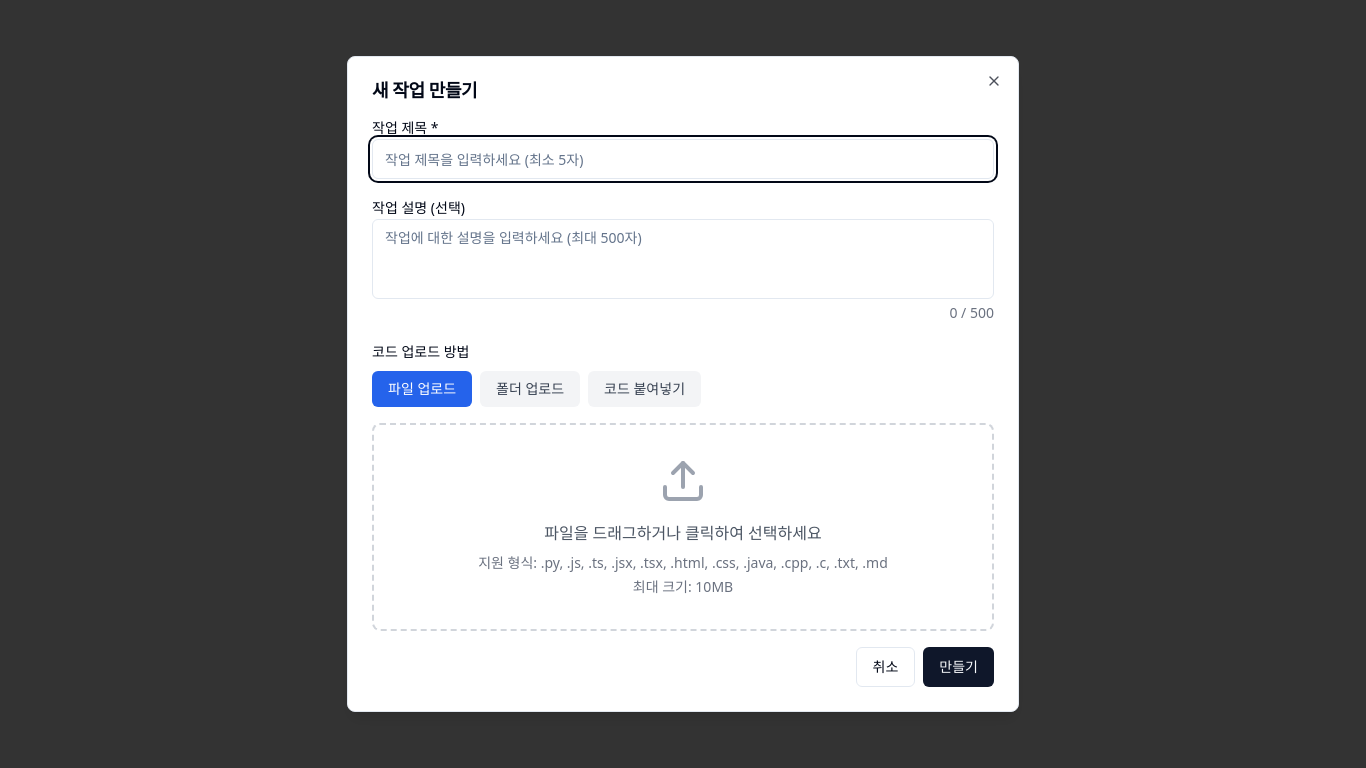
CreateTaskModal › should validate title minimum length
Type "abc" into the field labelled "작업 제목 *" at (683, 159), box [372,139,994,179]
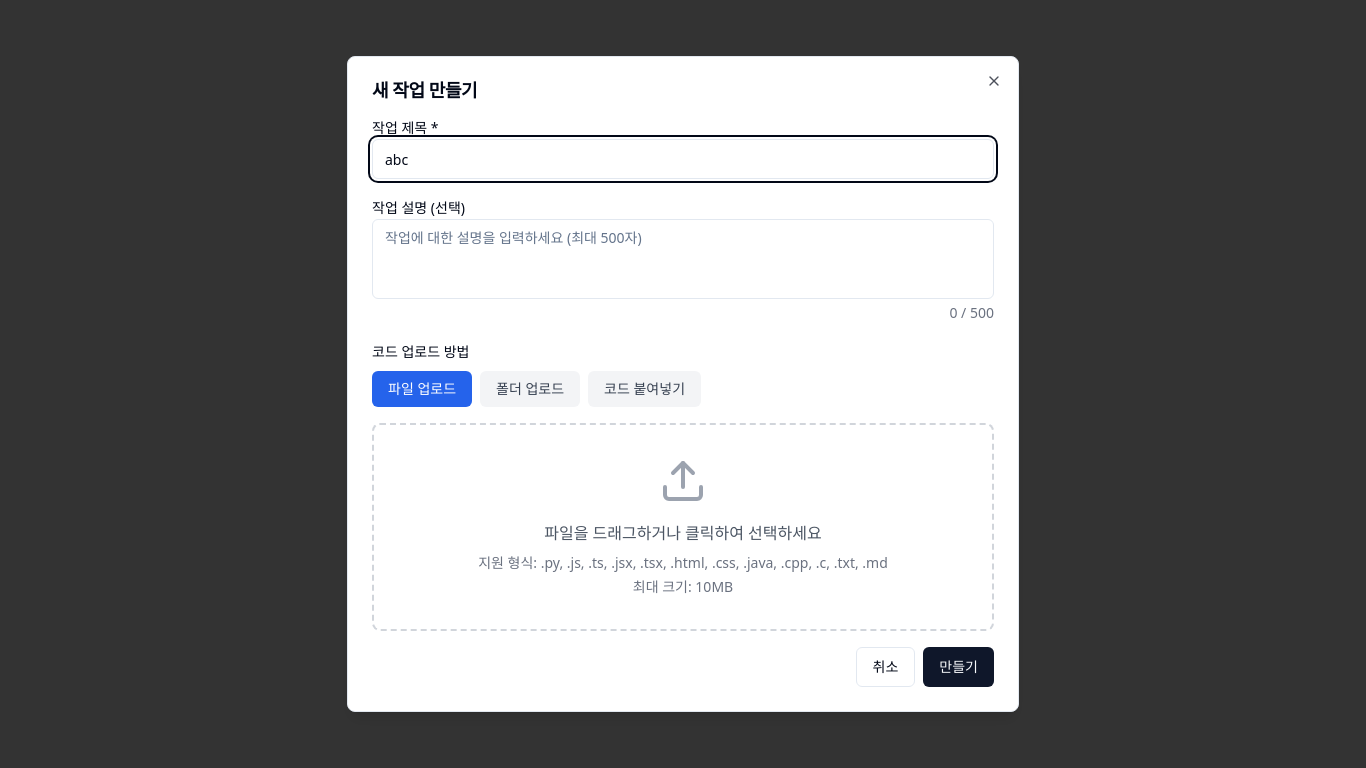
Click the button "만들기" at (959, 667), box [923,647,994,687]
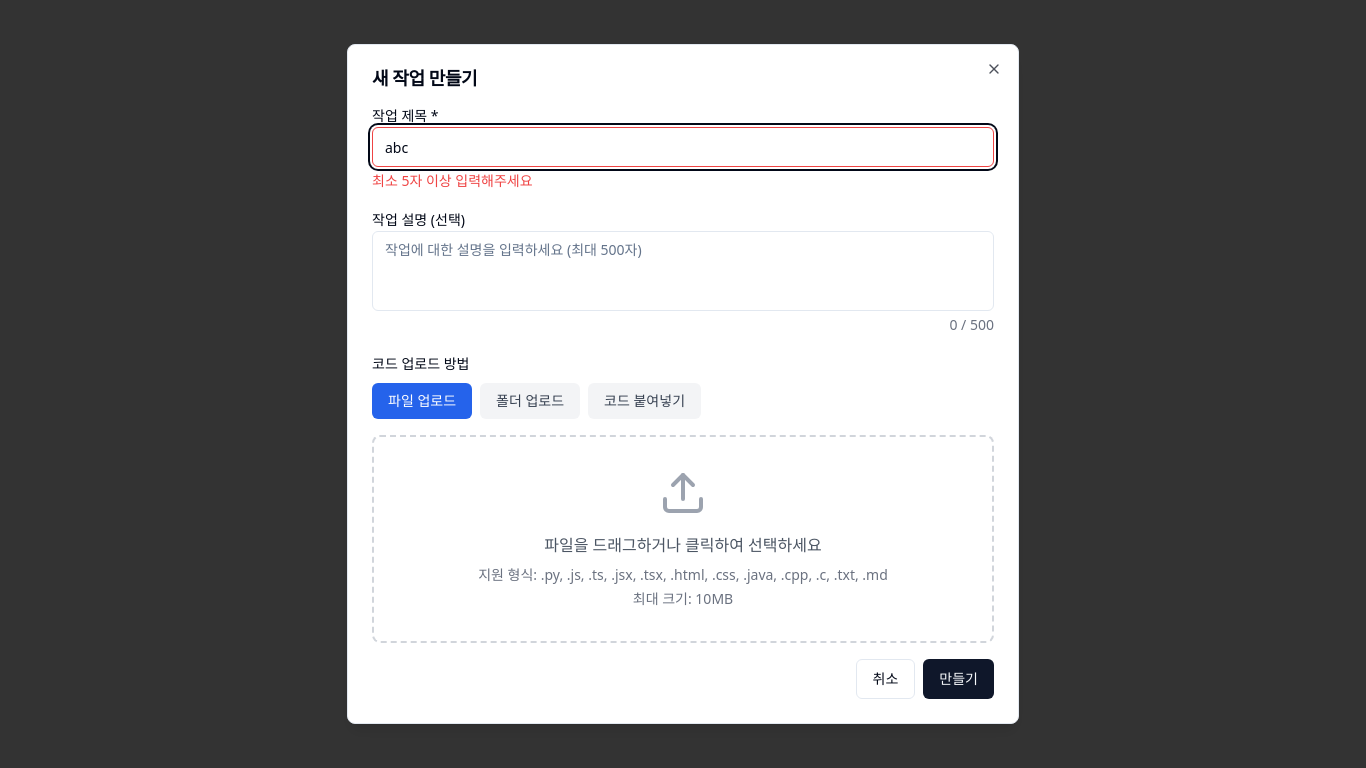
Now the text "최소 5자 이상 입력해주세요" is shown, box [372,171,533,190]
